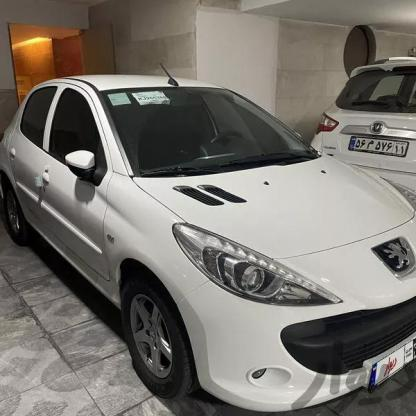Car: (0, 76, 413, 416), (306, 44, 416, 194)
